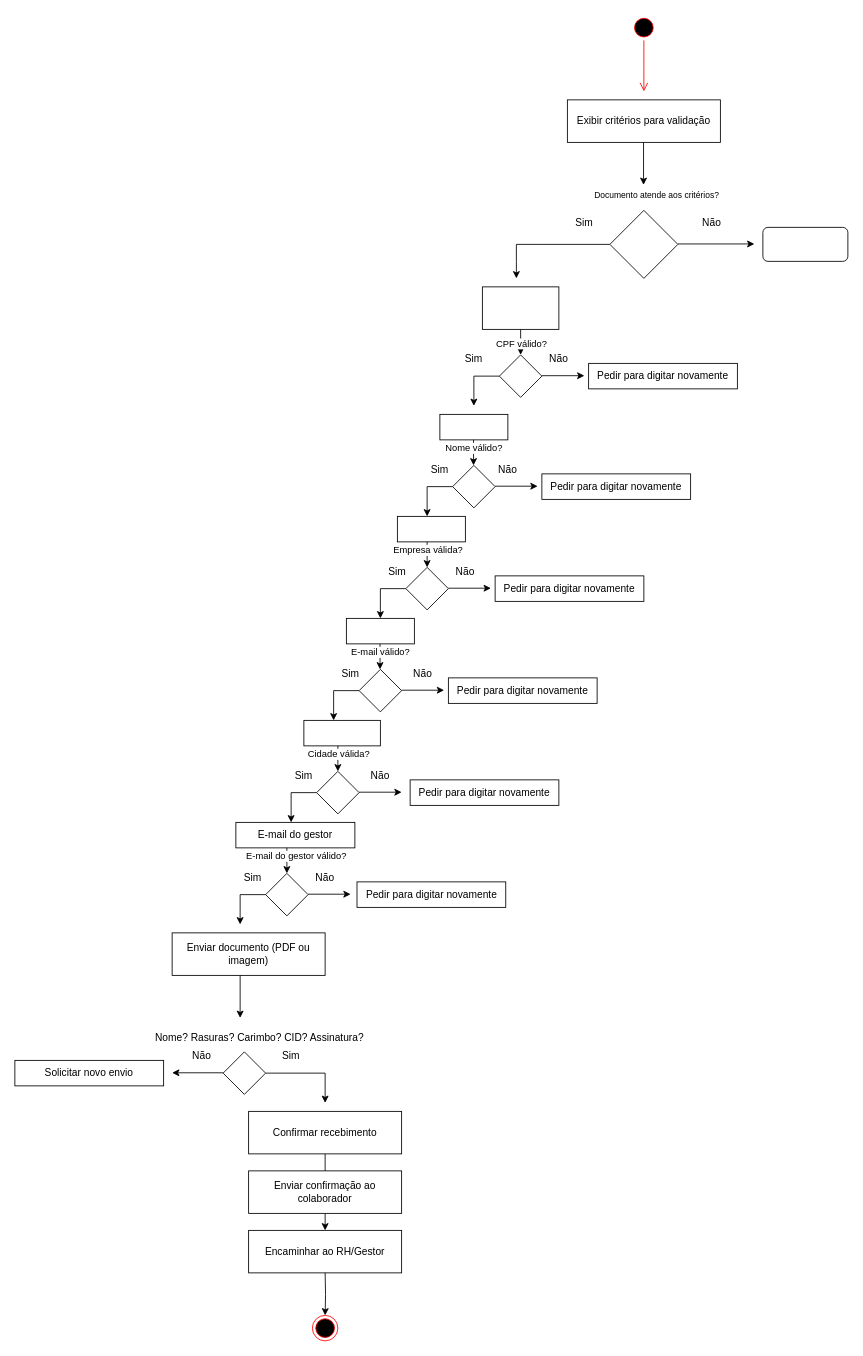
Some shapes in this 863 by 1356 pixel diagram are drawn without their labels. Each missing label, with the centre of its shape:
"Cidade" belongs at point (341, 733).
"E-mail" belongs at point (380, 631).
"Empresa" belongs at point (431, 529).
"Encerrar com mensagem" belongs at point (805, 244).
"Inserir CPF" belongs at point (520, 307).
"Nome" belongs at point (473, 427).
